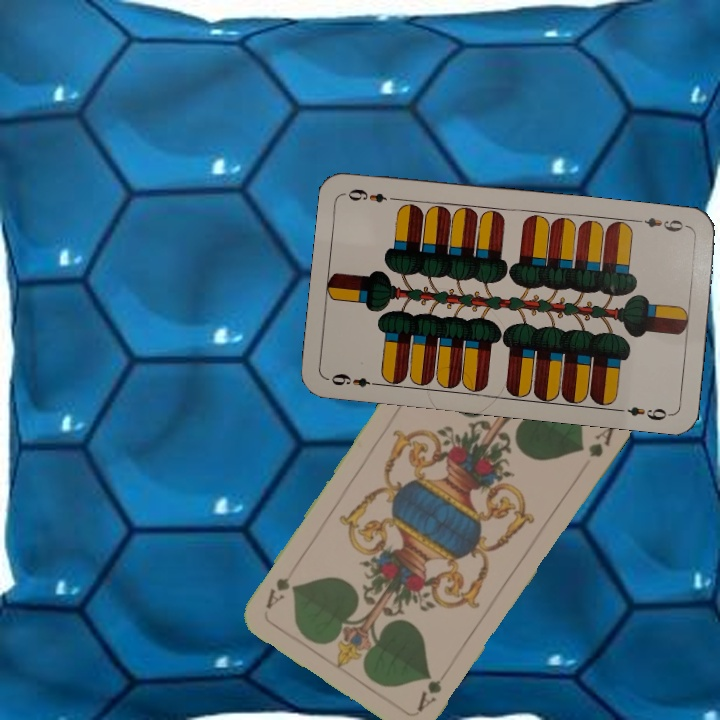E9: (632, 214, 692, 234), (327, 369, 384, 390)
GA: (413, 676, 445, 715)
